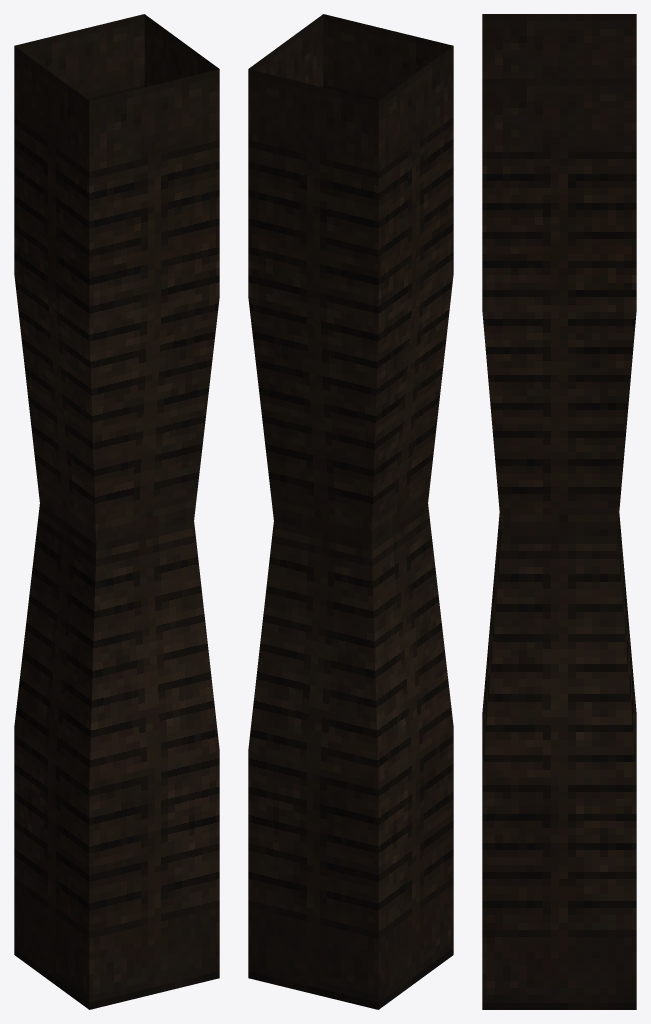
Rendered from column_6.glb.
3 renders of one model, left to right at view 1: azimuth 30°, elevation 25°; view 2: azimuth 150°, elevation 25°; view 3: azimuth 270°, elevation 25°, orthographic. The views are drawn at different scales.
Visible parts, largest first — view 1: column_6; view 2: column_6; view 3: column_6.
Boxes of the visible parts, x1,y1,x2,y2 form: column_6: (14, 14, 219, 1009); column_6: (248, 14, 453, 1009); column_6: (482, 14, 636, 1009).
Size of the model in its own units: 0.3 by 2 by 0.3.
Materials: 1 (1 with a texture image).
